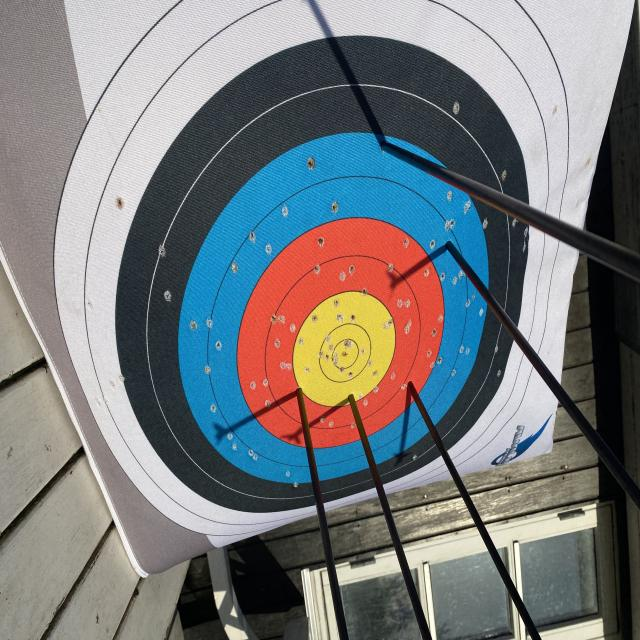Arrow_Blue: (363, 135, 406, 162), (439, 230, 465, 262)
Arrow_Red: (289, 382, 314, 413), (394, 371, 418, 398)
Arrow_Yellow: (344, 388, 366, 413)
